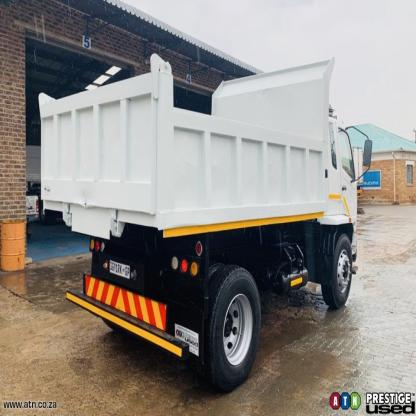dump_truck: (31, 45, 370, 394)
